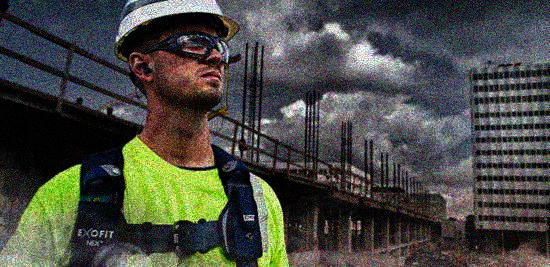helmet: (114, 1, 241, 107)
